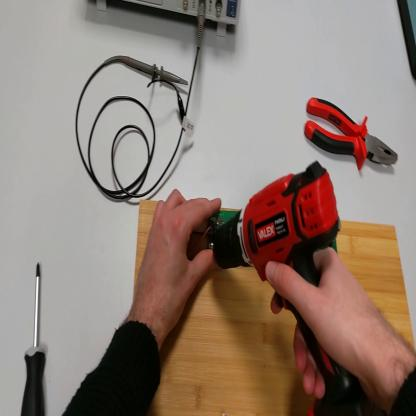electric screwdriver: (212, 159, 386, 415)
hand: (266, 244, 388, 397), (134, 189, 223, 333)
high voltage board: (191, 205, 242, 257)
oscilloscope: (90, 3, 242, 35)
oscilloscope probe tip: (123, 56, 190, 88)
screwdriver-: (22, 258, 50, 415)
welder station: (398, 3, 416, 80)
working area: (134, 199, 415, 413)
